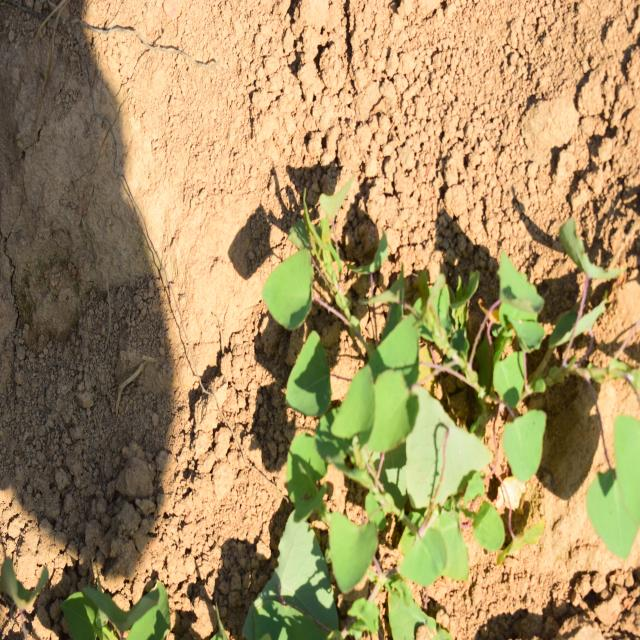Asiatic_Smartweed: (252, 196, 426, 478)
